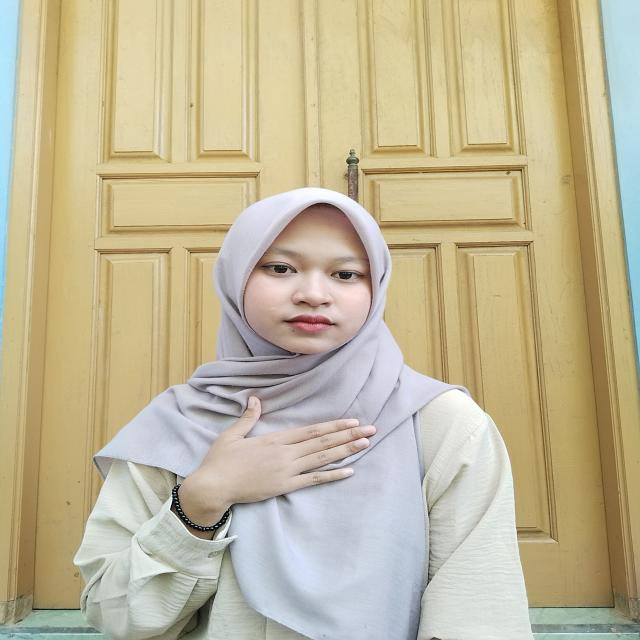tolong: (155, 396, 373, 524)
